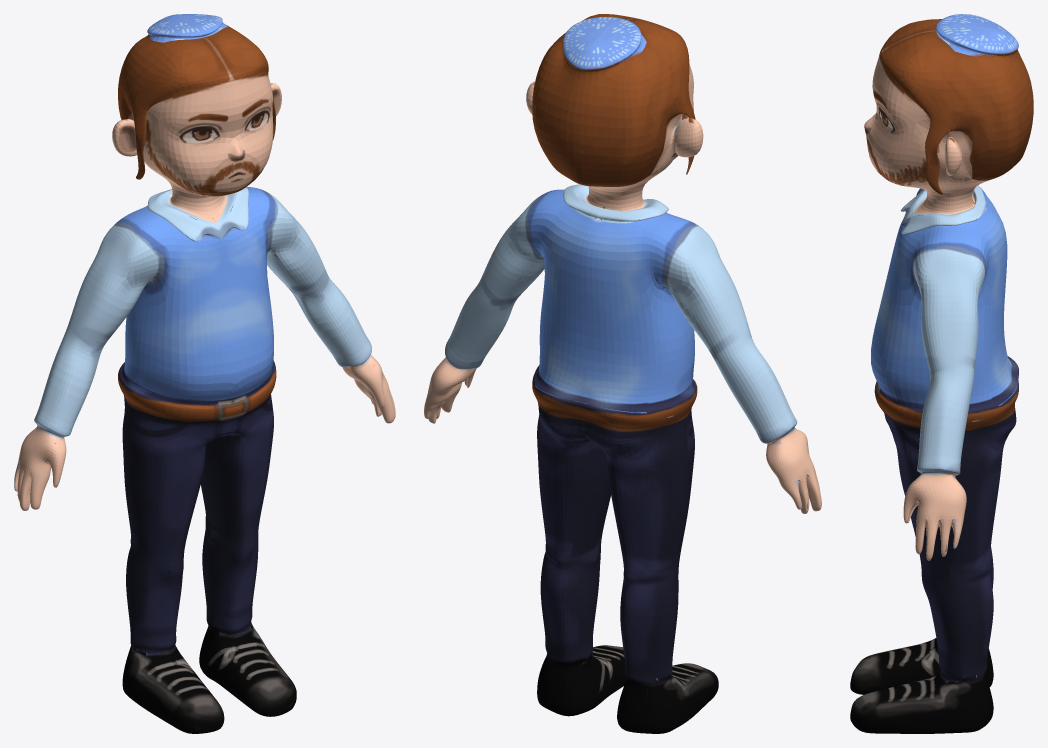
File: walkers.glb
The picture shows the model from 3 angles, left to right: view 1: azimuth 30°, elevation 25°; view 2: azimuth 150°, elevation 25°; view 3: azimuth 270°, elevation 25°; orthographic projection. The views are drawn at different scales.
Visible parts, largest first — view 1: Cube.001_2; view 2: Cube.001_2; view 3: Cube.001_2.
Boxes of the visible parts, box(x1,y1,x2,y2) form: Cube.001_2: box(14, 14, 395, 733); Cube.001_2: box(424, 14, 821, 733); Cube.001_2: box(850, 14, 1033, 733).
Size of the model in its own units: 5.58 by 9.46 by 2.31.
Materials: 1 (1 with a texture image).
